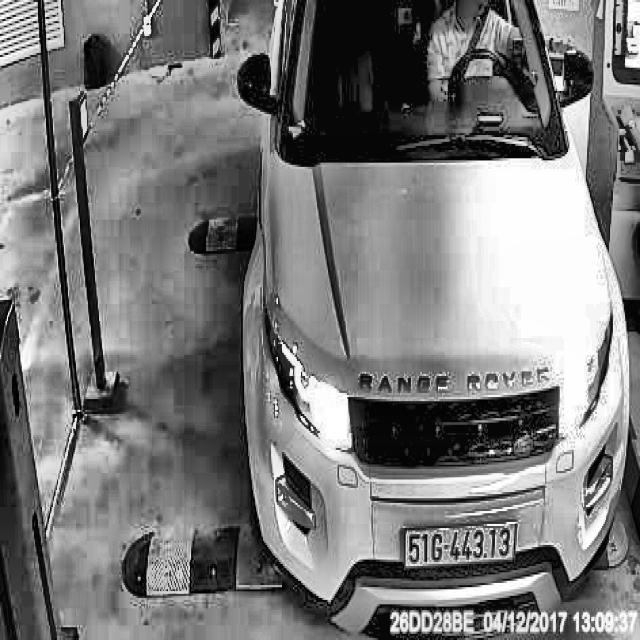plate: (401, 516, 522, 576)
